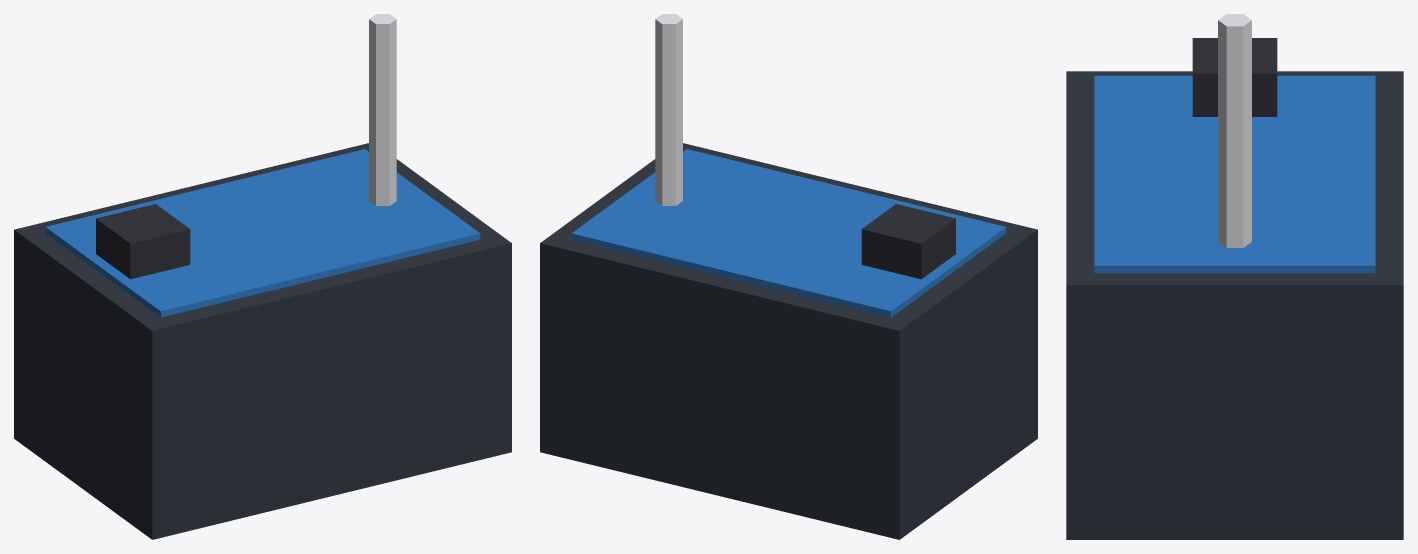
The model's file is hydro_reservoir.glb.
3 renders of one model, left to right at view 1: azimuth 30°, elevation 25°; view 2: azimuth 150°, elevation 25°; view 3: azimuth 270°, elevation 25°, orthographic. The views are drawn at different scales.
Visible parts, largest first — view 1: reservoir; view 2: reservoir; view 3: reservoir.
Boxes of the visible parts, x1,y1,x2,y2 form: reservoir: [14, 14, 511, 539]; reservoir: [540, 14, 1037, 539]; reservoir: [1066, 14, 1403, 539].
Size of the model in its own units: 0.9 by 0.95 by 0.6.
